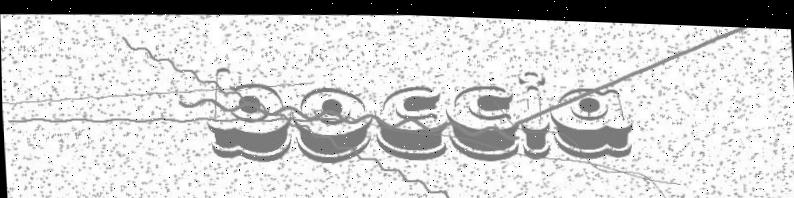a: (549, 79, 634, 158)
b: (201, 62, 295, 165)
c: (443, 78, 521, 161), (372, 79, 448, 158)
i: (515, 66, 551, 157)
o: (289, 80, 375, 165)
